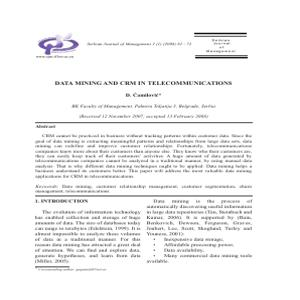image: (193, 29, 254, 67), (26, 32, 81, 61)
text: (30, 124, 255, 194), (31, 197, 142, 264), (145, 198, 254, 264), (53, 78, 236, 98)
